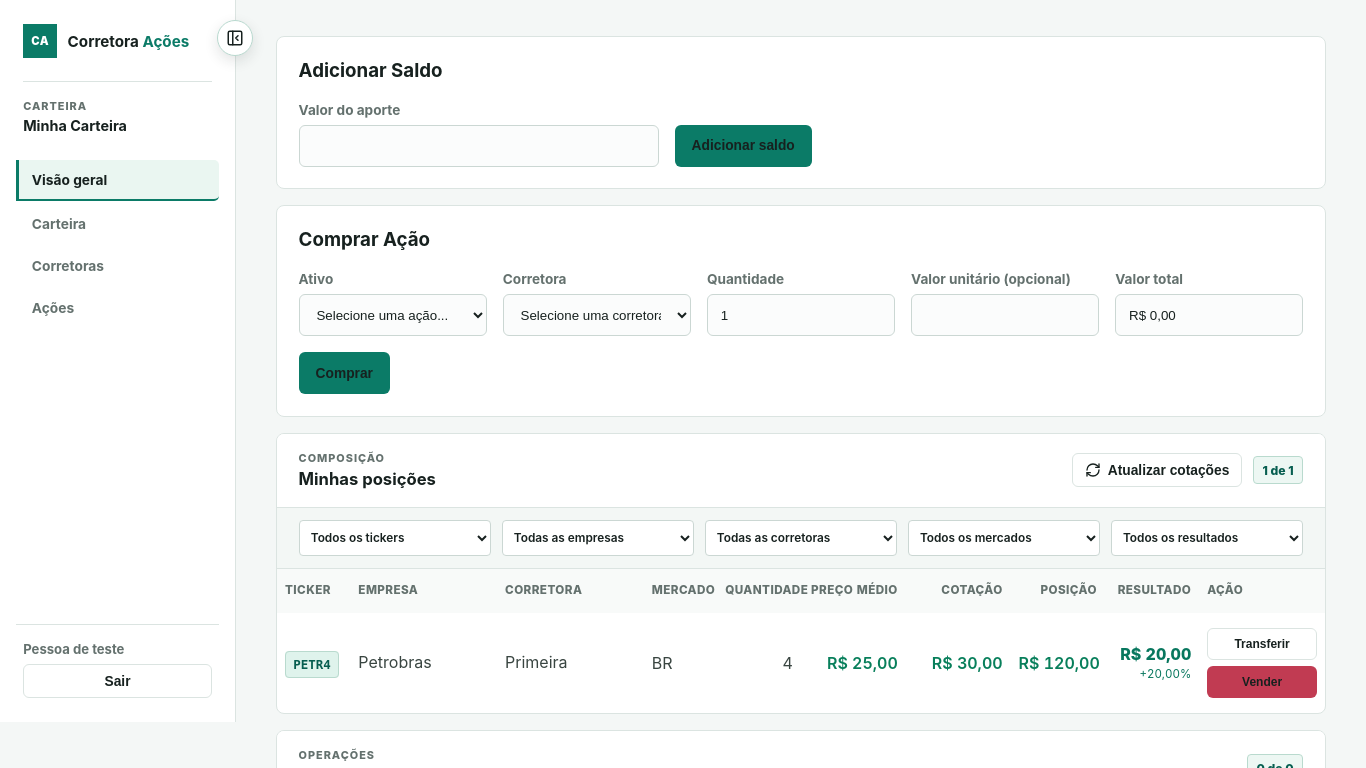
Test case: operacoes da carteira › compra com outra corretora e valor unitario informado
This screenshot has width=1366, height=768.
Expected: the cell "Petrobras" is shown, [350, 613, 497, 713]
Select "PETR4 - Petrobras (R$ 30,00)" in the dropdown below "Ativo" at x=393, y=315, box [299, 294, 487, 336]
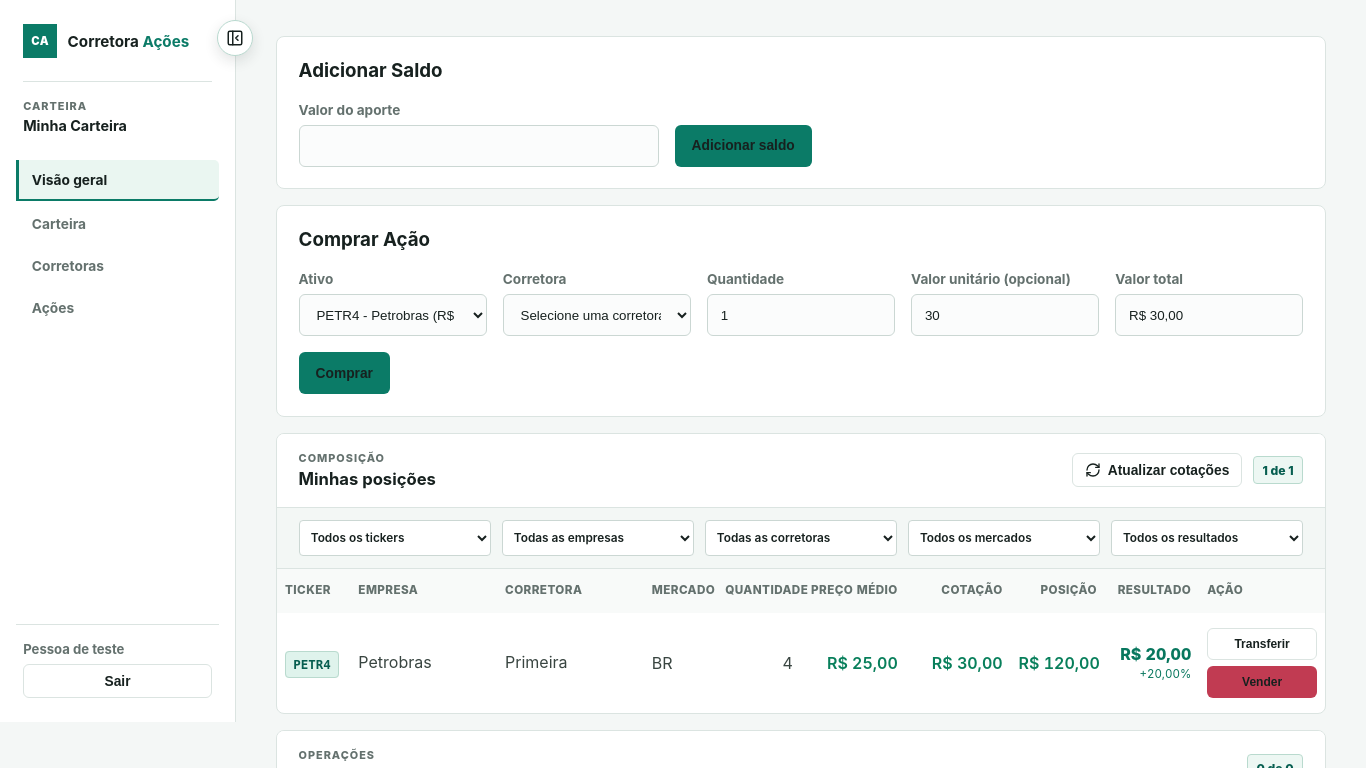
Select "Segunda" in the 2nd dropdown at x=597, y=315, box [503, 294, 691, 336]
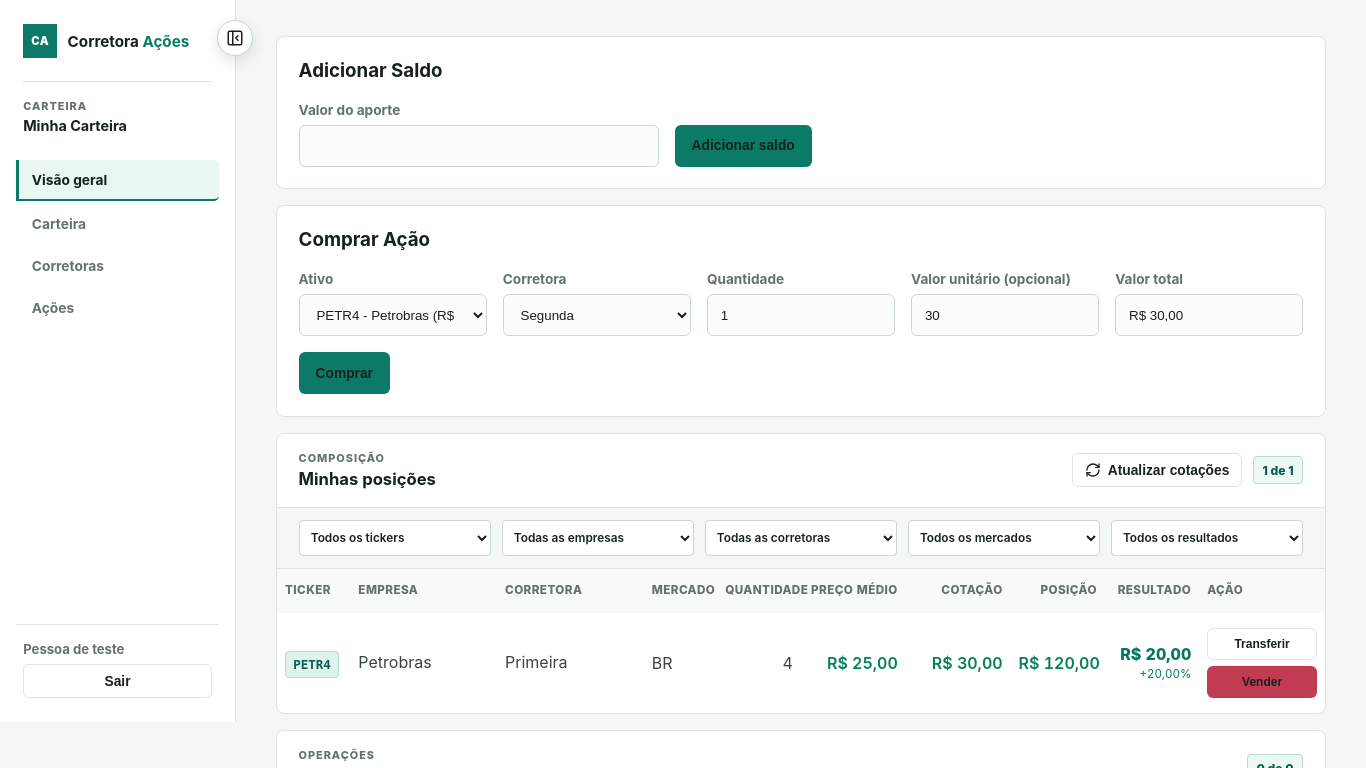
Now the number field below "Valor unitário (opcional)" holds "30", box [911, 294, 1099, 336]
Replace the text in the 2nd number field with "2" at x=801, y=315, box [707, 294, 895, 336]
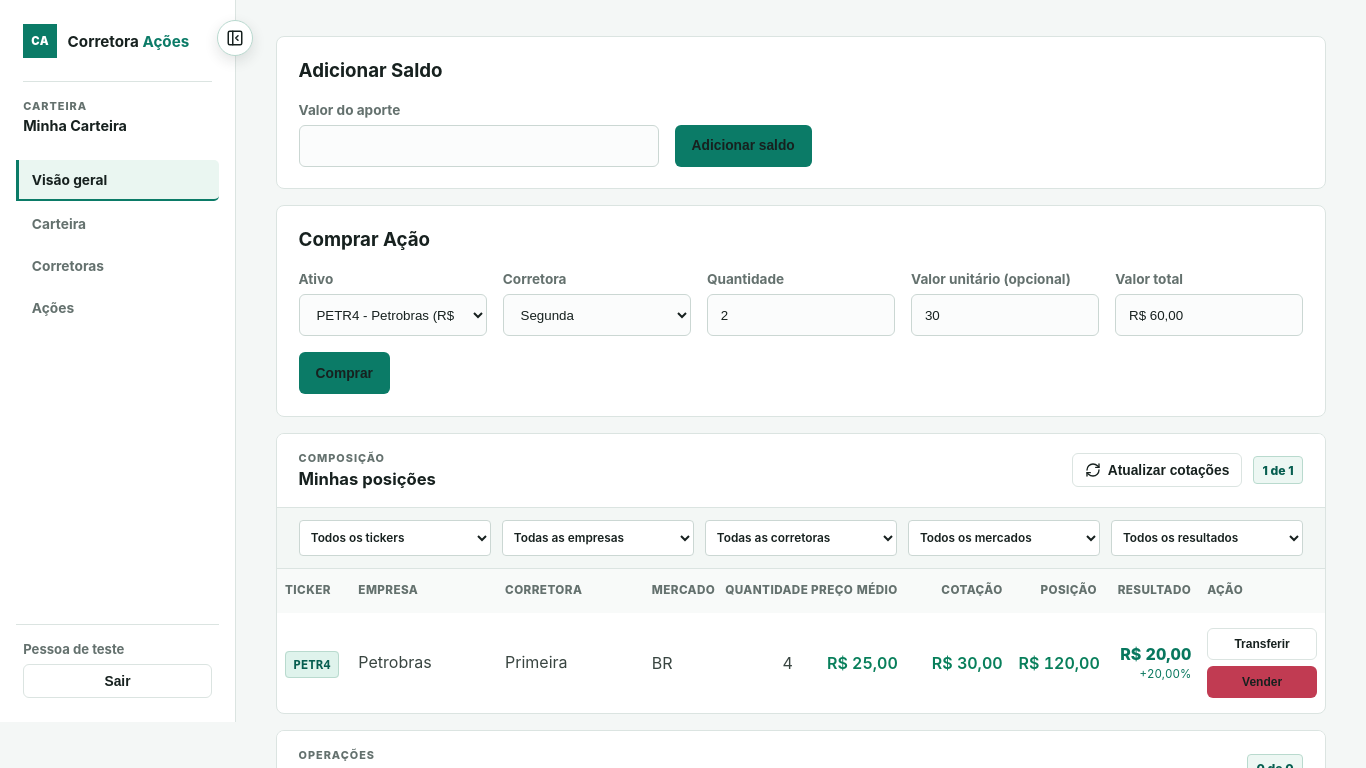
Replace the text in the number field below "Valor unitário (opcional)" with "31" at x=1005, y=315, box [911, 294, 1099, 336]
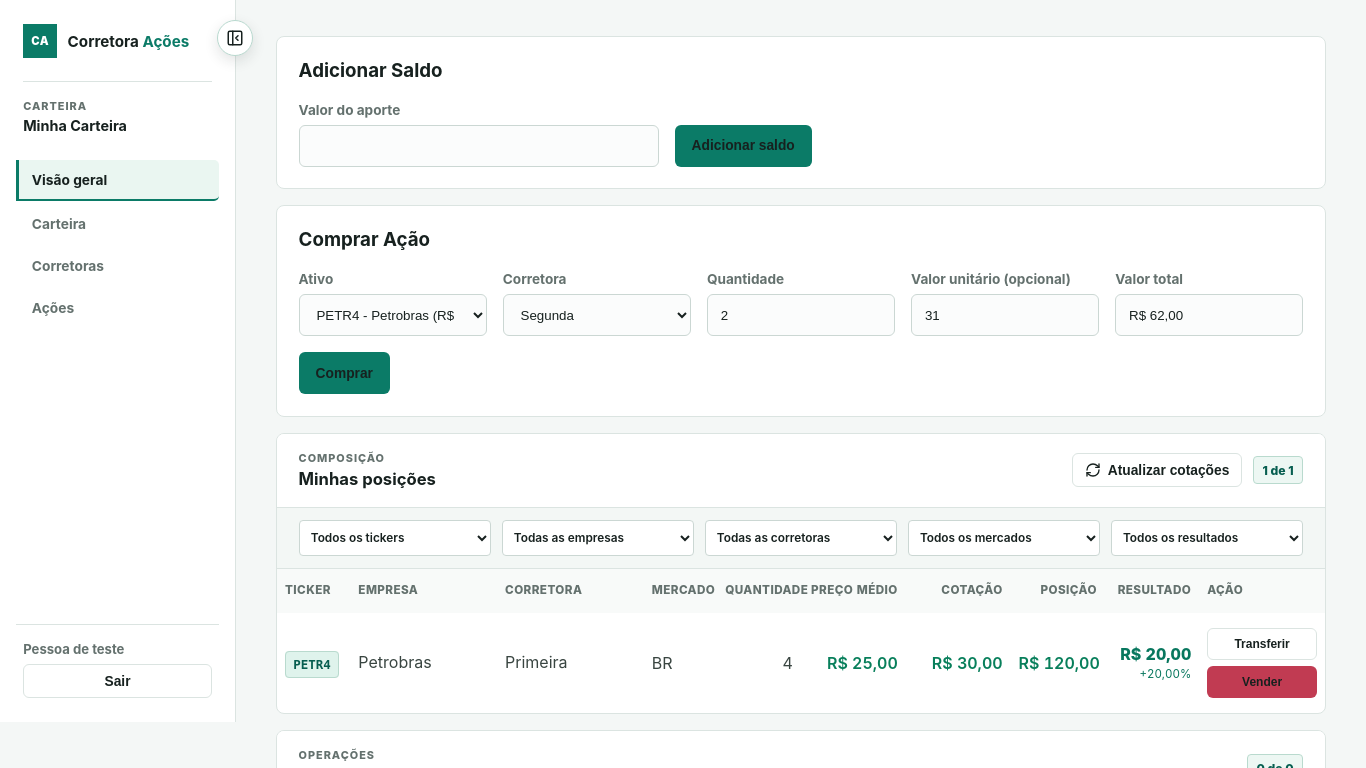
Submit the form "Comprar", box [299, 271, 1303, 394]
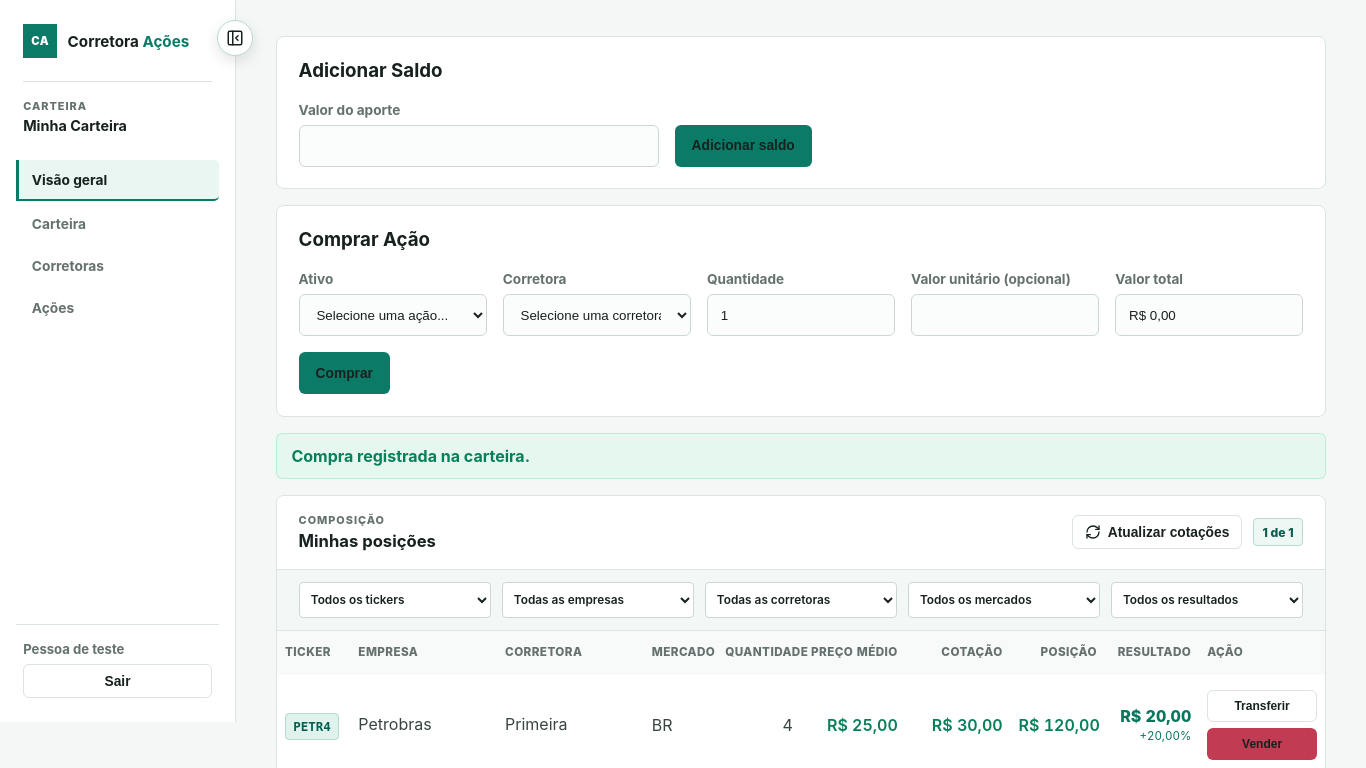
Now the text "Compra registrada na carteira." is shown, box [276, 433, 1326, 479]
